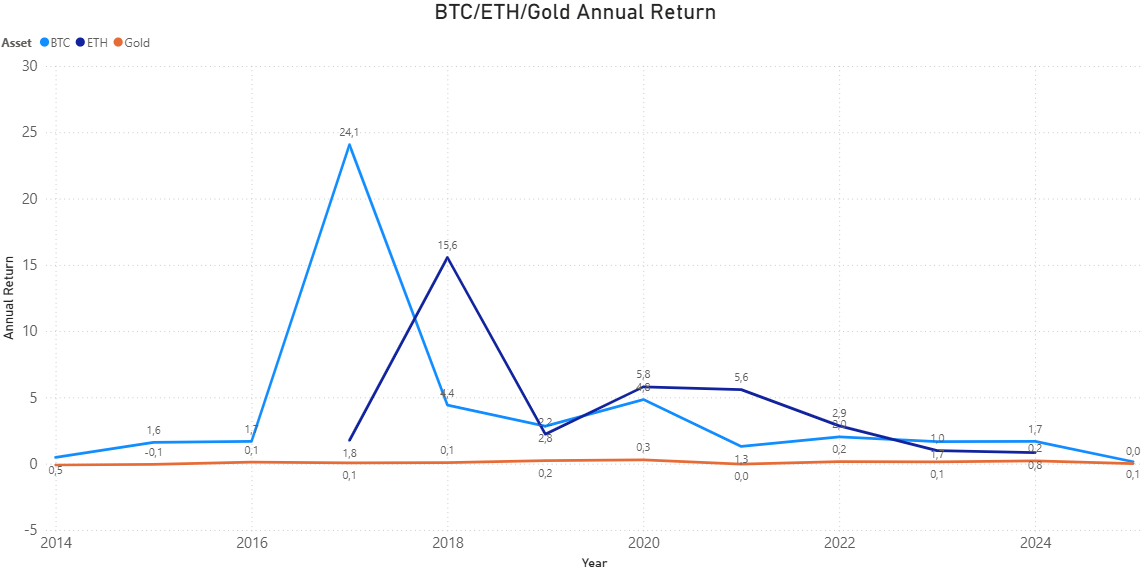

What the dashboard file says about the page in this screenshot:
{"tool":"powerbi","page":{"name":"Page 3","canvas":[1280,720],"ordinal":2},"visuals":[{"type":"lineChart","title":"BTC/ETH/Gold Annual Return ","fields":{"Category":["All Yearly Returns.Year"],"Series":["All Yearly Returns.Asset"],"Y":["Avg(All Yearly Returns.AnnualReturn)"]},"box":[4.1,43.9,1270.7,632.6],"z":0}]}

Visuals, with their boxes on the page's 1280x720 design canvas (x1, y1, x2, y2). These are canvas units, not pixel positions in the 1145x567 screenshot, which may show the page scaled, cropped or inside an application window:
"BTC/ETH/Gold Annual Return " lineChart: <box>4,44,1275,676</box>
